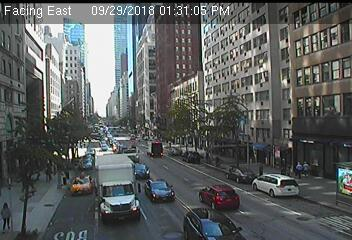car: (97, 154, 139, 222), (183, 210, 240, 240), (253, 173, 301, 198), (201, 184, 240, 210), (145, 180, 174, 203), (227, 166, 254, 184), (72, 176, 93, 193), (135, 163, 148, 178)
